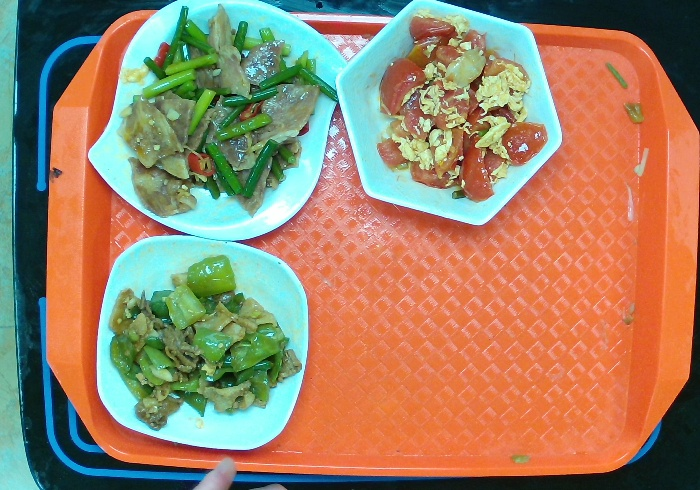RJxy-Liu_Jiao_Wan: (331, 1, 564, 228)
RJxy-Shuang_Jiao_Pan: (87, 1, 348, 243)
RJxy-Si_Fang_Wan: (93, 235, 311, 457)
